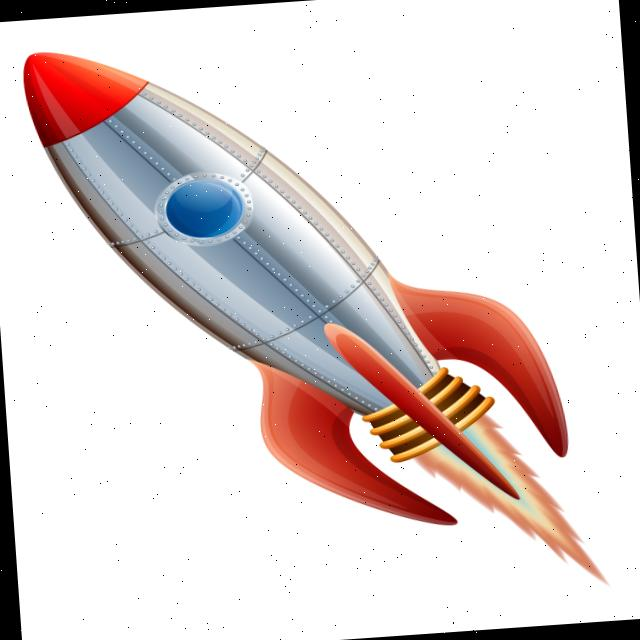rocket: (6, 41, 588, 546)
